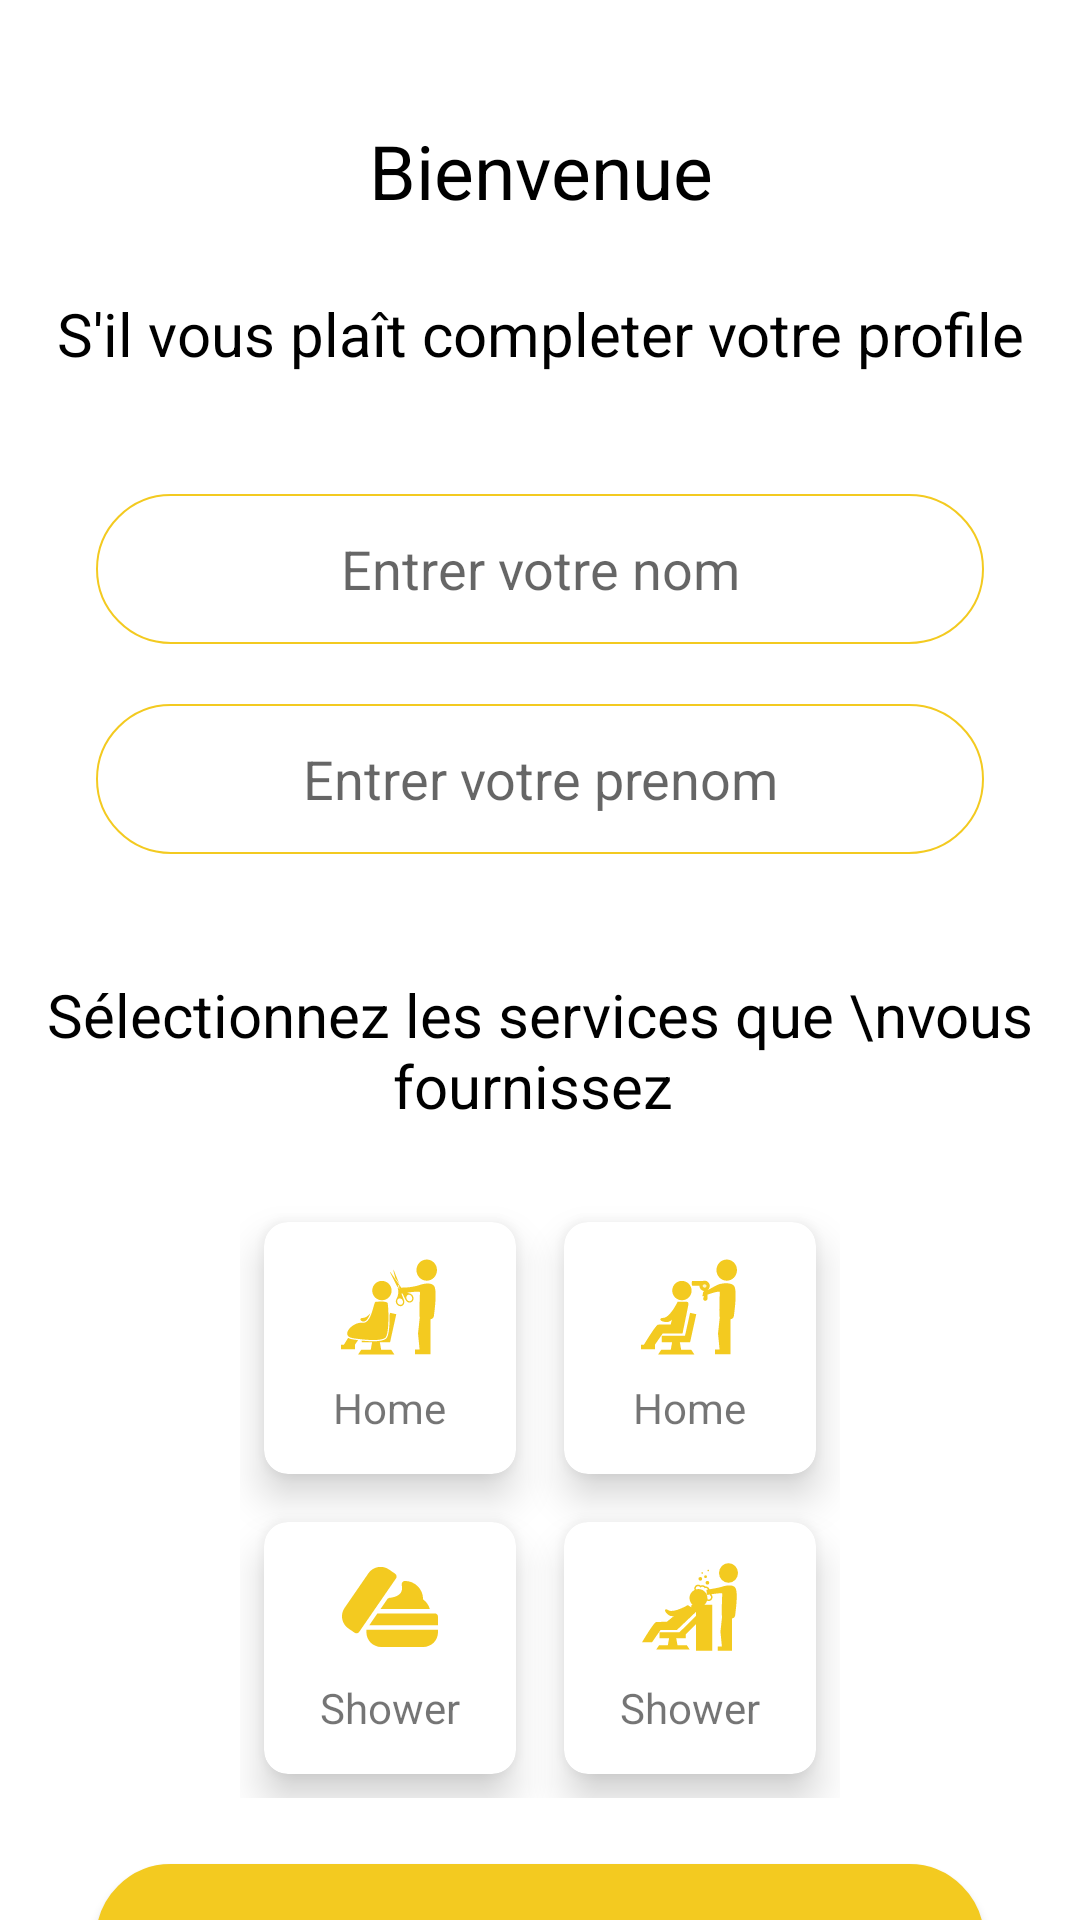

Where icons sit on this 1080 × 1920 app screen, as Rect(x1, y1, x2, y2):
cream: Rect(342, 1567, 438, 1647)
hairdresser scissors cutting: Rect(341, 1259, 437, 1355)
hairdresser shampoo: Rect(642, 1563, 738, 1651)
